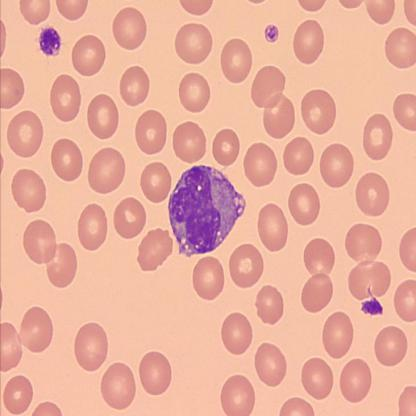Monocyte: (165, 162, 246, 261)
